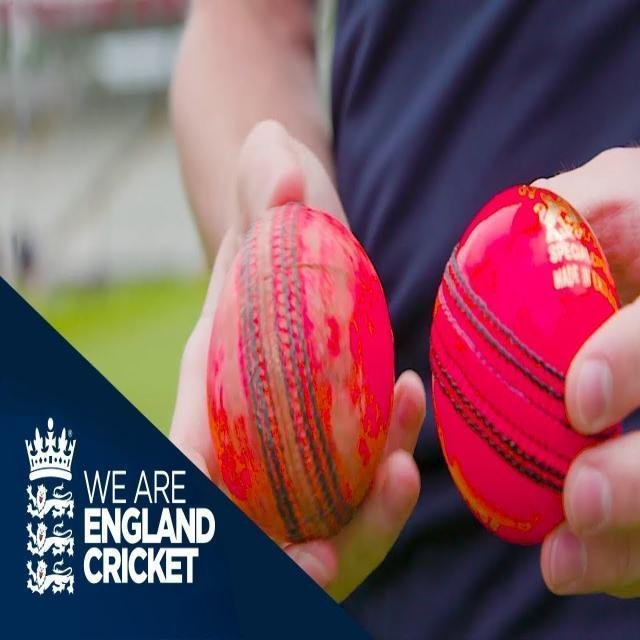cricket ball: (430, 185, 621, 543), (206, 201, 395, 543)
